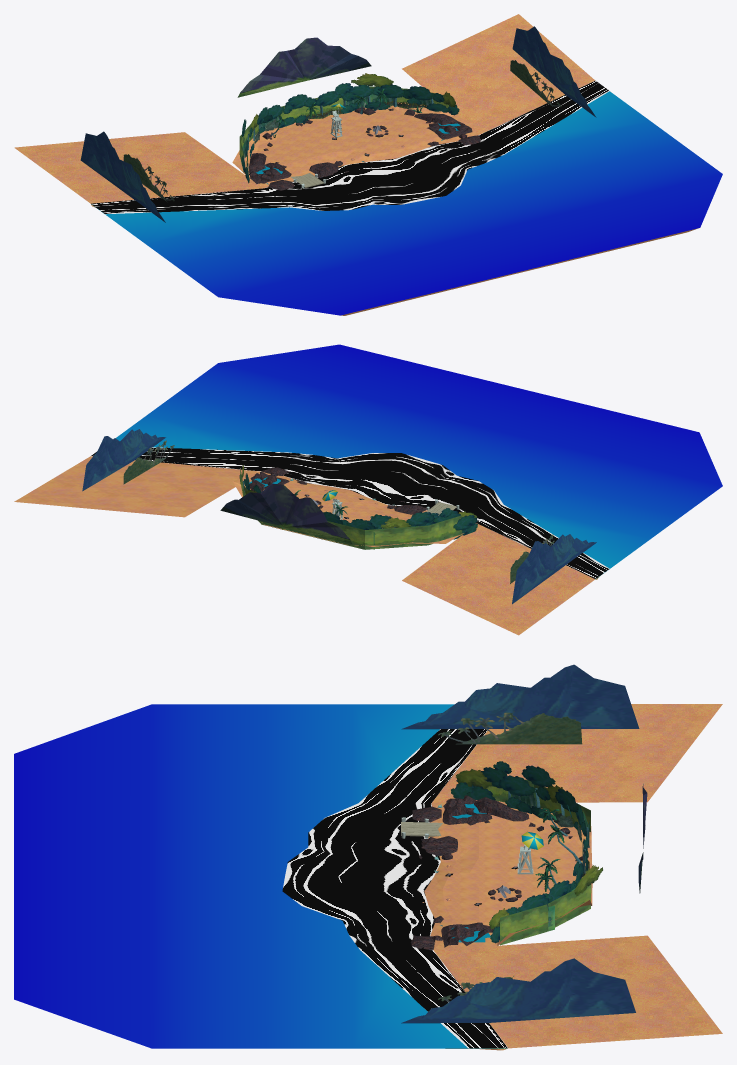
The model's file is stitch's beach.dae.
3 renders of one model, top to bottom at view 1: azimuth 30°, elevation 25°; view 2: azimuth 150°, elevation 25°; view 3: azimuth 270°, elevation 25°, orthographic. The views are drawn at different scales.
Parts seen in each view (by area): view 1: aStchBeachMdl; view 2: aStchBeachMdl; view 3: aStchBeachMdl.
Part boxes in pixels (left/top/right/bottom): aStchBeachMdl: left=14, top=14, right=722, bottom=315; aStchBeachMdl: left=14, top=344, right=722, bottom=635; aStchBeachMdl: left=14, top=664, right=722, bottom=1050.
Bounding box in the file's own units: 347 × 302 × 54.45.
